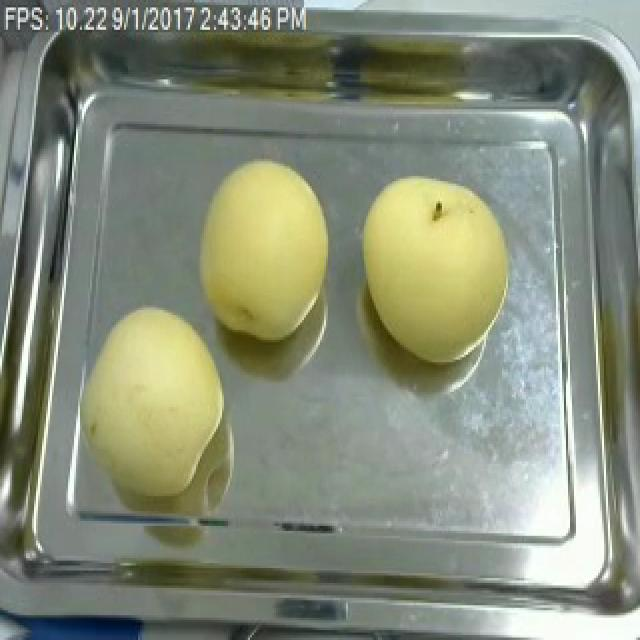Fruit: (60, 293, 236, 511), (354, 166, 520, 370), (186, 146, 338, 350)
